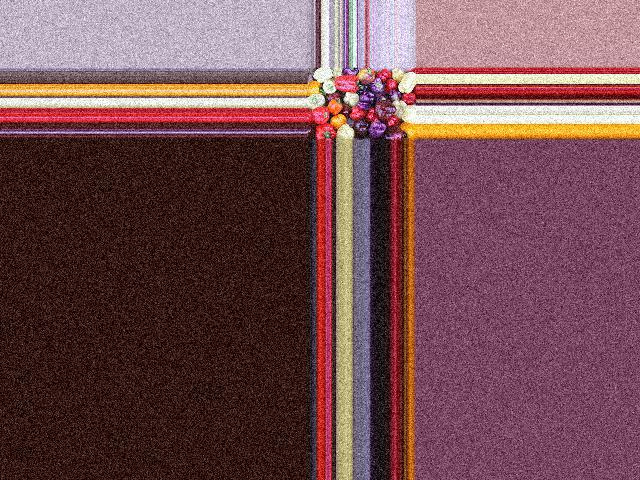bell_pepper: (307, 95, 327, 108)
